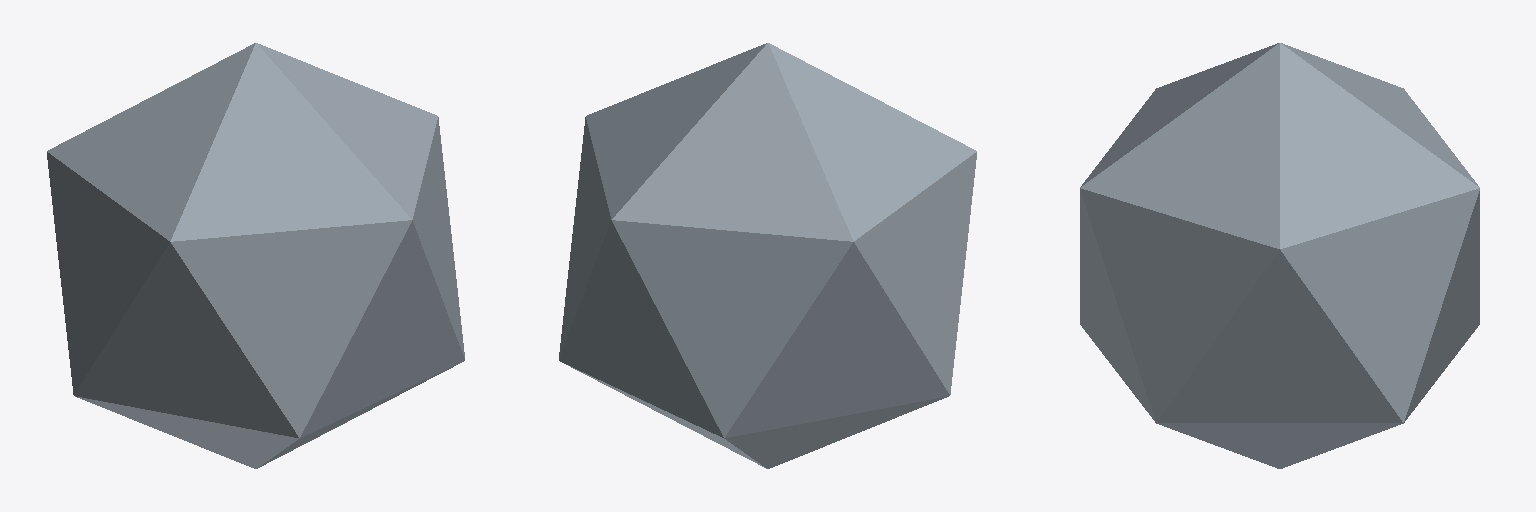
The model's file is ForestSceneAlt2.obj.
3 renders of one model, left to right at view 1: azimuth 30°, elevation 25°; view 2: azimuth 150°, elevation 25°; view 3: azimuth 270°, elevation 25°, orthographic.
Visible parts, largest first — view 1: GeoSphere001; view 2: GeoSphere001; view 3: GeoSphere001.
Part boxes in pixels (left/top/right/bottom): GeoSphere001: left=47, top=43, right=464, bottom=468; GeoSphere001: left=559, top=43, right=976, bottom=468; GeoSphere001: left=1080, top=43, right=1479, bottom=468.
Bounding box in the file's own units: 78140 × 87363 × 74316.